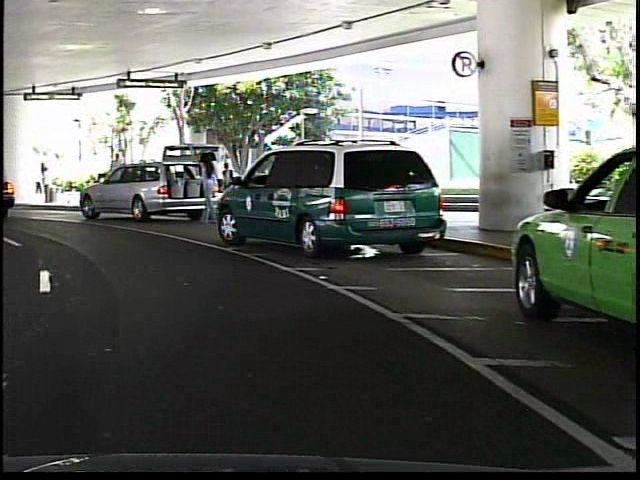person: (183, 155, 235, 213), (196, 148, 216, 227), (103, 149, 125, 202)
